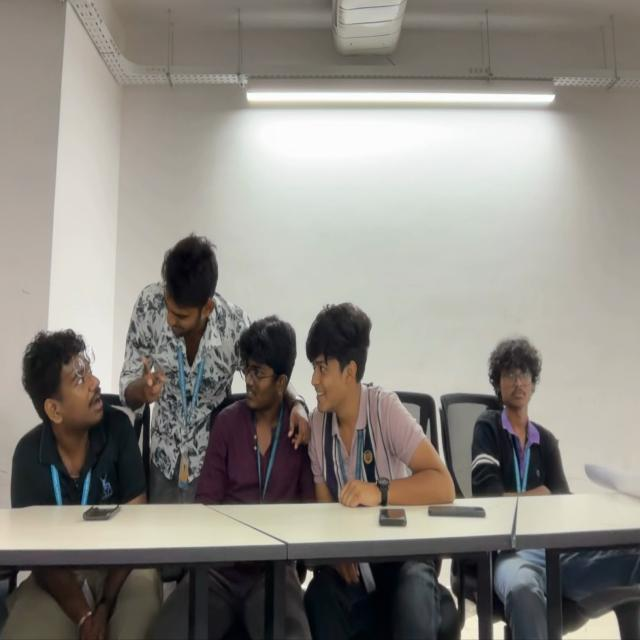Isolated: (473, 338, 570, 495)
socializing: (12, 233, 457, 506)
